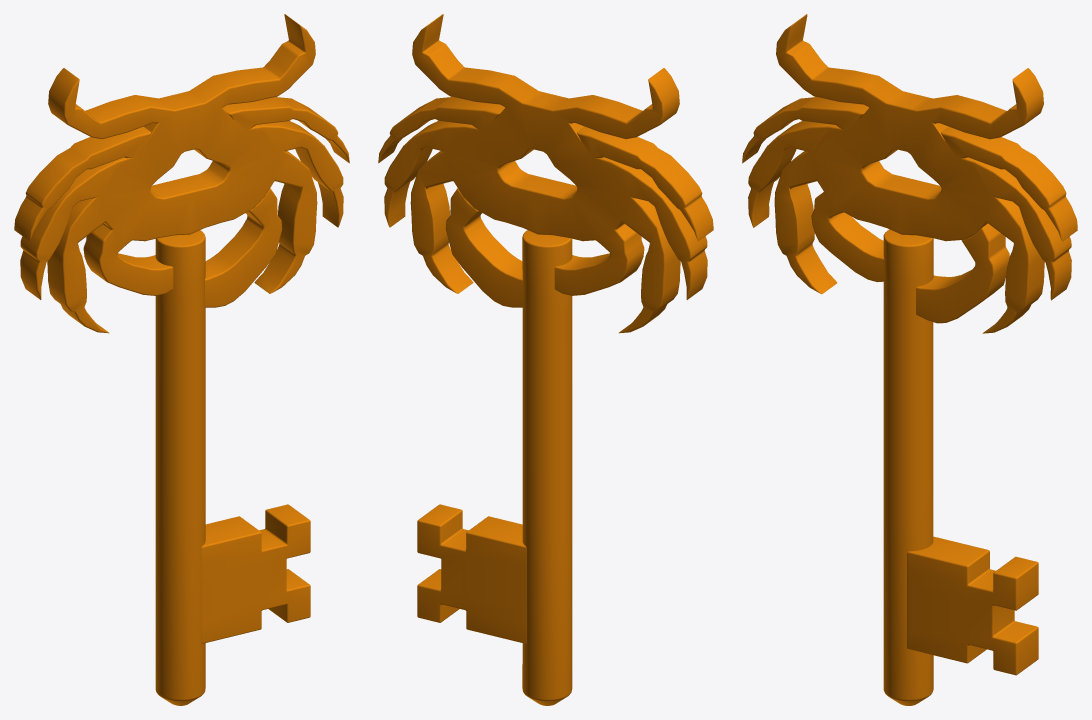
Rendered from Key Full.fbx.
3 views of the same model, side by side, from view 1: azimuth 30°, elevation 25°; view 2: azimuth 150°, elevation 25°; view 3: azimuth 330°, elevation 25° (orthographic).
Parts seen in each view (by area): view 1: Key Full; view 2: Key Full; view 3: Key Full.
Part boxes in pixels (left/top/right/bottom): Key Full: left=14, top=14, right=349, bottom=705; Key Full: left=378, top=14, right=713, bottom=705; Key Full: left=742, top=14, right=1077, bottom=705.
Size of the model in its own units: 18.93 by 37.08 by 2.57.
